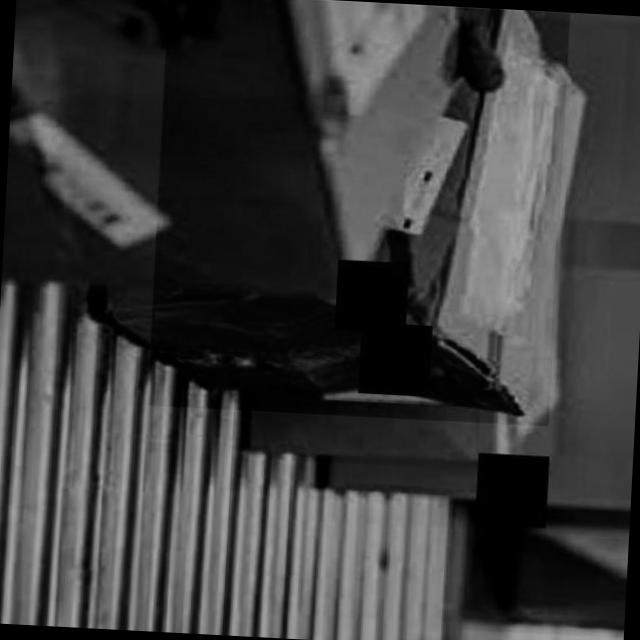box: (147, 0, 570, 427)
